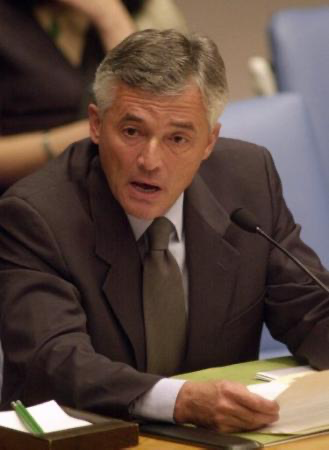Face: (92, 81, 216, 221)
